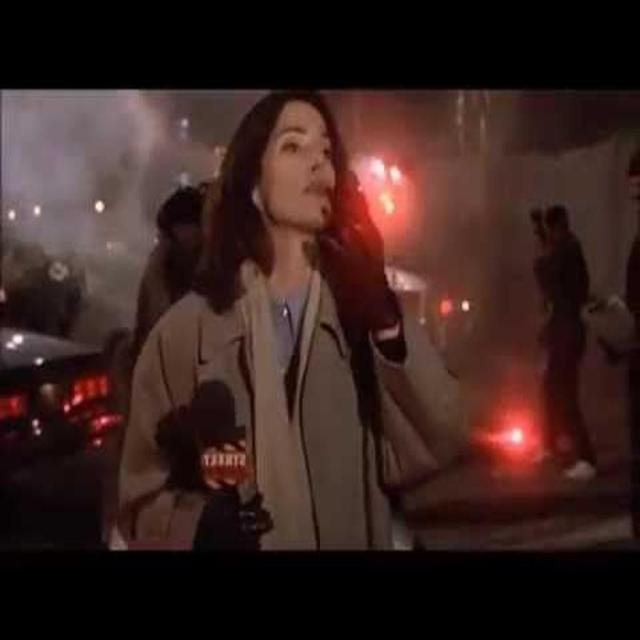smoking: (113, 88, 471, 551)
